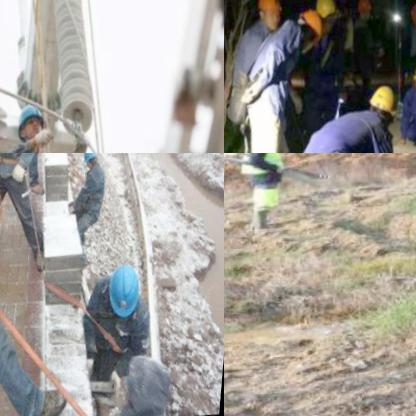helmet: (105, 254, 152, 327), (14, 96, 54, 149), (369, 78, 405, 120), (294, 7, 329, 50), (253, 0, 290, 31), (314, 0, 343, 28), (80, 153, 103, 172)
